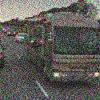buses: (24, 10, 100, 86)
